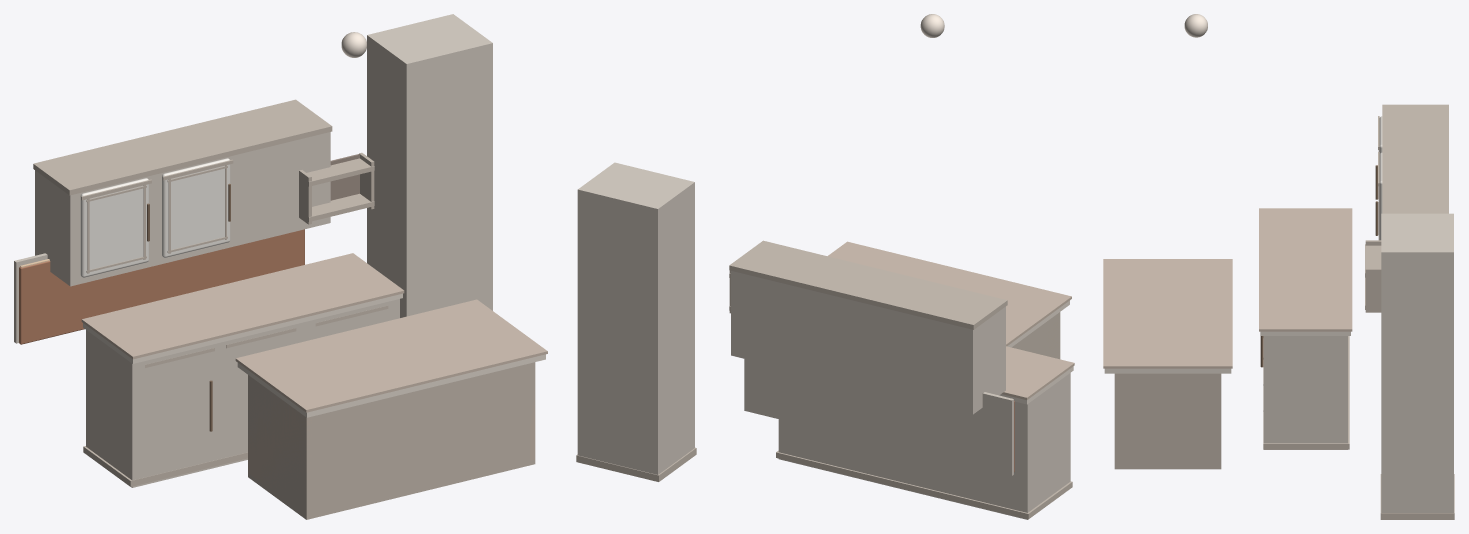
File: kitchen-atelier.glb
The picture shows the model from 3 angles, left to right: view 1: azimuth 30°, elevation 25°; view 2: azimuth 150°, elevation 25°; view 3: azimuth 270°, elevation 25°; orthographic projection. The views are drawn at different scales.
Parts seen in each view (by area): view 1: pantry-carcass, island-carcass, base-carcass, countertop-island-lip, countertop-main-lip, wall-carcass, kitchen-backsplash-panel, wall-top-cap, kitchen-wall-left-door, kitchen-wall-right-door, island-side-left, countertop-island (+7 smaller); view 2: pantry-carcass, wall-carcass, backsplash-body, base-carcass, wall-top-cap, countertop-island-lip, countertop-main-lip, base-shadow-line, island-carcass, pantry-shadow-line; view 3: pantry-carcass, countertop-island-lip, countertop-main-lip, island-carcass, base-carcass, wall-top-cap, base-shadow-line, countertop-island, open-shelf-side-right, pantry-shadow-line, open-shelf-upper, accent-orb (+1 smaller).
Part boxes in pixels (x1,y1,x2,y2): pantry-carcass: (367,14,492,317); island-carcass: (248,362,535,519); base-carcass: (86,299,399,487); countertop-island-lip: (235,299,547,412); countertop-main-lip: (81,253,404,359); wall-carcass: (35,132,330,286); kitchen-backsplash-panel: (19,229,304,344); wall-top-cap: (33,99,332,195); kitchen-wall-left-door: (80,178,148,277); kitchen-wall-right-door: (162,158,230,257); island-side-left: (248,389,311,498); countertop-island: (237,354,545,417); pantry-carcass: (577,162,694,474); wall-carcass: (731,271,1005,414); backsplash-body: (744,359,1013,475); base-carcass: (778,373,1070,519); wall-top-cap: (729,240,1007,329); countertop-island-lip: (827,241,1071,346); countertop-main-lip: (1001,346,1074,400); base-shadow-line: (776,450,1072,519); island-carcass: (1012,312,1060,358); pantry-shadow-line: (576,447,696,481); pantry-carcass: (1381,213,1453,512); countertop-island-lip: (1103,259,1232,368); countertop-main-lip: (1259,208,1352,331); island-carcass: (1114,373,1221,469); base-carcass: (1263,336,1347,449); wall-top-cap: (1382,104,1448,213); base-shadow-line: (1263,336,1349,449); countertop-island: (1104,368,1231,373); open-shelf-side-right: (1365,268,1381,312); pantry-shadow-line: (1380,474,1454,519); open-shelf-upper: (1365,244,1381,277); accent-orb: (1184,14,1207,37).
Size of the model in its own units: 7.26 by 6.67 by 5.33.
